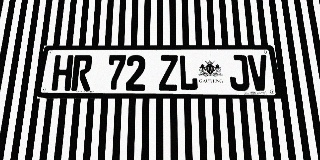2: (126, 55, 146, 91)
7: (106, 55, 126, 91)
H: (51, 55, 74, 91)
J: (228, 55, 250, 91)
L: (178, 55, 198, 91)
R: (71, 55, 93, 91)
V: (247, 55, 270, 91)
Z: (159, 55, 178, 91)
